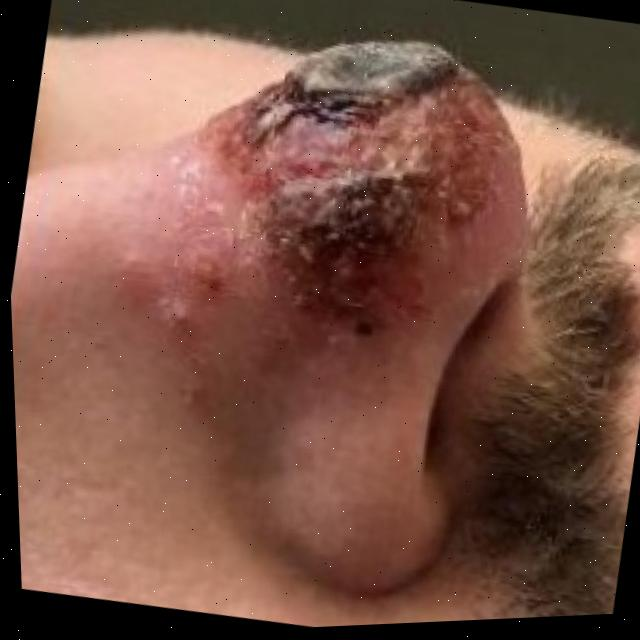Eczema: (195, 13, 499, 320)
